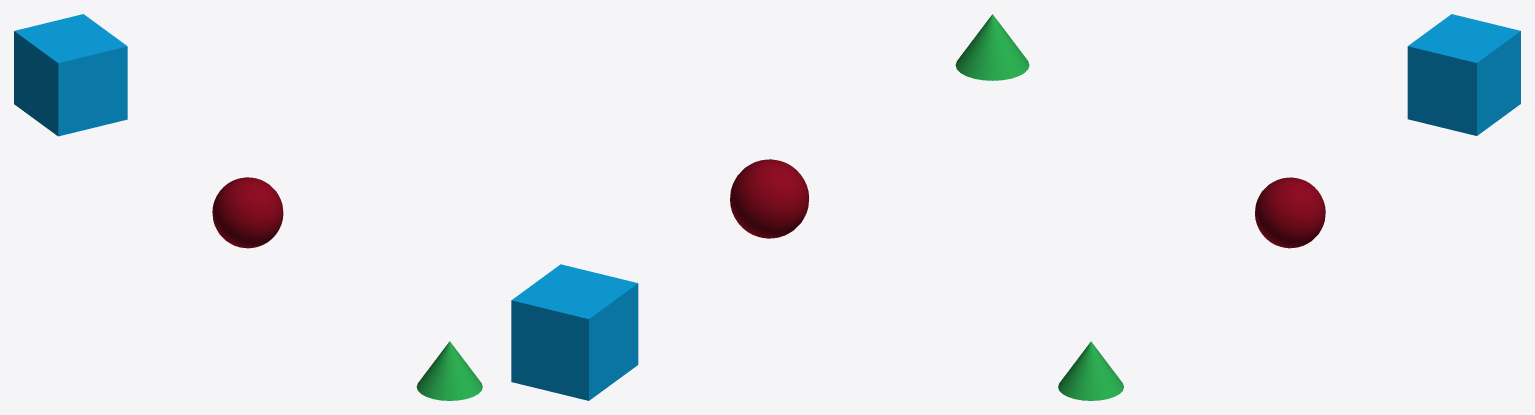
3 renders of one model, left to right at view 1: azimuth 30°, elevation 25°; view 2: azimuth 150°, elevation 25°; view 3: azimuth 330°, elevation 25°, orthographic. The views are drawn at different scales.
Parts seen in each view (by area): view 1: Box001, Sphere001, Cone001; view 2: Box001, Sphere001, Cone001; view 3: Box001, Sphere001, Cone001.
Boxes of the visible parts, left/top/right/bottom form: Box001: left=14, top=14, right=127, bottom=136; Sphere001: left=212, top=177, right=283, bottom=248; Cone001: left=416, top=341, right=482, bottom=400; Box001: left=511, top=264, right=638, bottom=400; Sphere001: left=730, top=159, right=808, bottom=238; Cone001: left=955, top=14, right=1029, bottom=80; Box001: left=1407, top=14, right=1520, bottom=135; Sphere001: left=1255, top=177, right=1325, bottom=248; Cone001: left=1058, top=341, right=1123, bottom=400.
Size of the model in its own units: 32.73 by 35.16 by 339.
3 materials, 3 textured.
